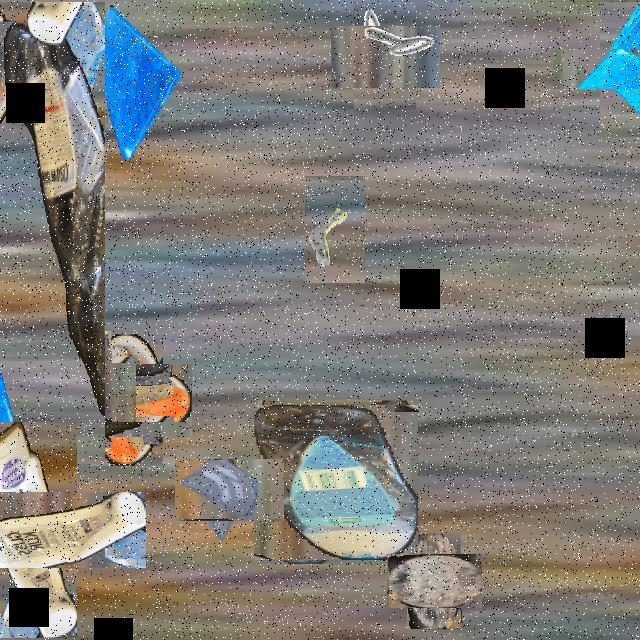glass: (92, 2, 180, 158), (0, 334, 95, 447), (32, 344, 124, 435), (186, 448, 272, 534), (576, 25, 640, 113)
metal: (342, 14, 428, 100), (305, 176, 365, 283)
plastic: (0, 2, 105, 464), (256, 402, 416, 562), (0, 456, 111, 603), (74, 349, 178, 451)
wood: (396, 544, 472, 619)
